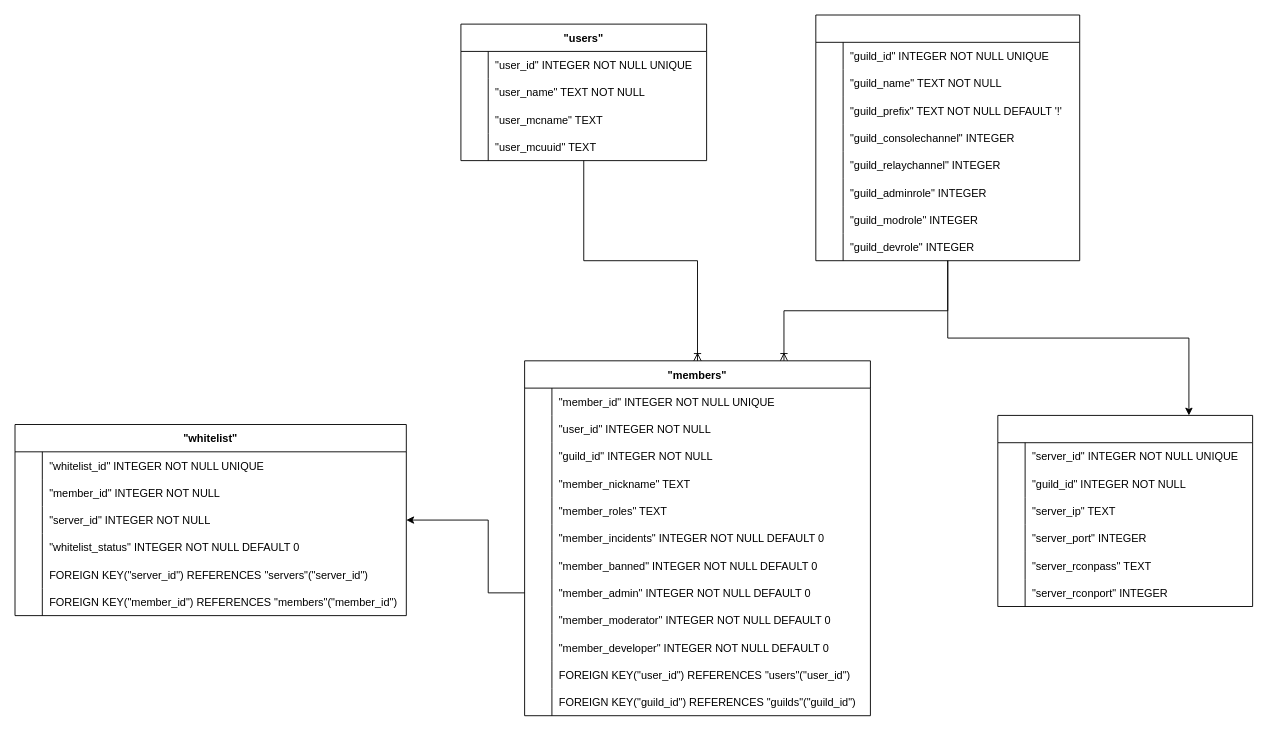
The diagram is 1268 pixels wide and 731 high, and some of its shapes have lost their labels. Here are the shapes that lost their labels. From the top down, the box of each, then its label:
(815, 14, 1080, 261): "guilds"
(997, 415, 1253, 607): "servers"
